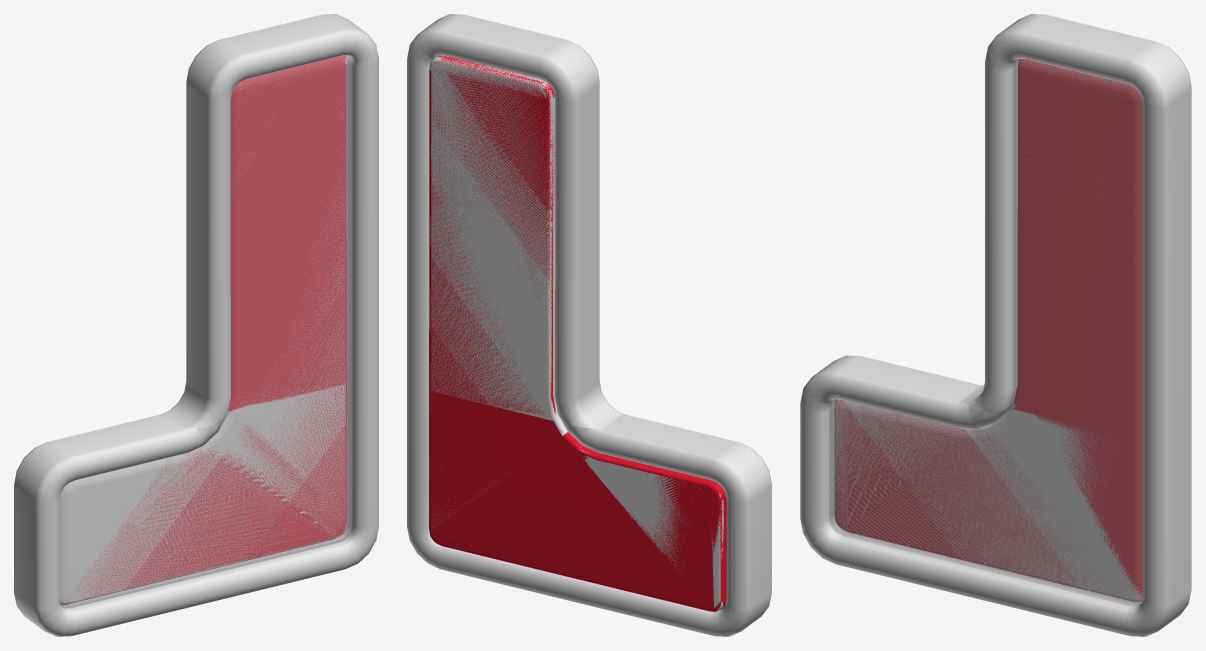
The model's file is ReverseLShape.fbx.
3 views of the same model, side by side, from view 1: azimuth 30°, elevation 25°; view 2: azimuth 150°, elevation 25°; view 3: azimuth 330°, elevation 25° (orthographic). The views are drawn at different scales.
Visible parts, largest first — view 1: ReverseLShape, ReverseLShape_Water; view 2: ReverseLShape, ReverseLShape_Water; view 3: ReverseLShape, ReverseLShape_Water.
Boxes of the visible parts, box(x1,y1,x2,y2) form: ReverseLShape: box(14, 14, 378, 636); ReverseLShape_Water: box(60, 56, 346, 604); ReverseLShape: box(407, 14, 771, 636); ReverseLShape_Water: box(429, 55, 726, 611); ReverseLShape: box(800, 14, 1191, 636); ReverseLShape_Water: box(834, 59, 1142, 602).
Size of the model in its own units: 2 by 3 by 0.2944.
